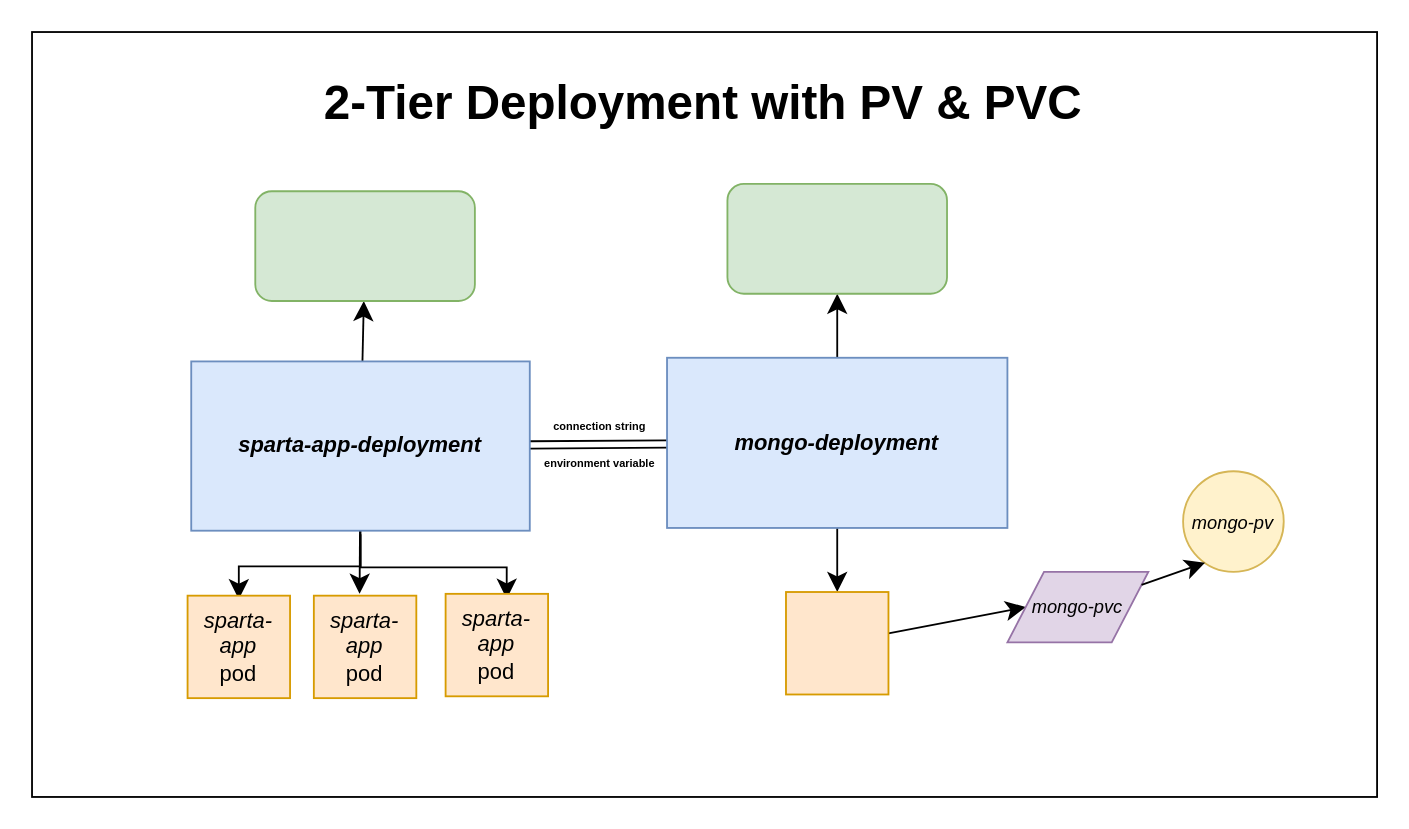
The diagram is 1409 pixels wide and 829 high, and some of its shapes have lost their labels. The shapes that lost their labels are listed below. From the top down, each one's centre as x and y in pixels, then its label:
the point at 364,245: sparta-svc (NodePort service)
the point at 836,238: mongo-svc
the point at 836,642: mongo pod
